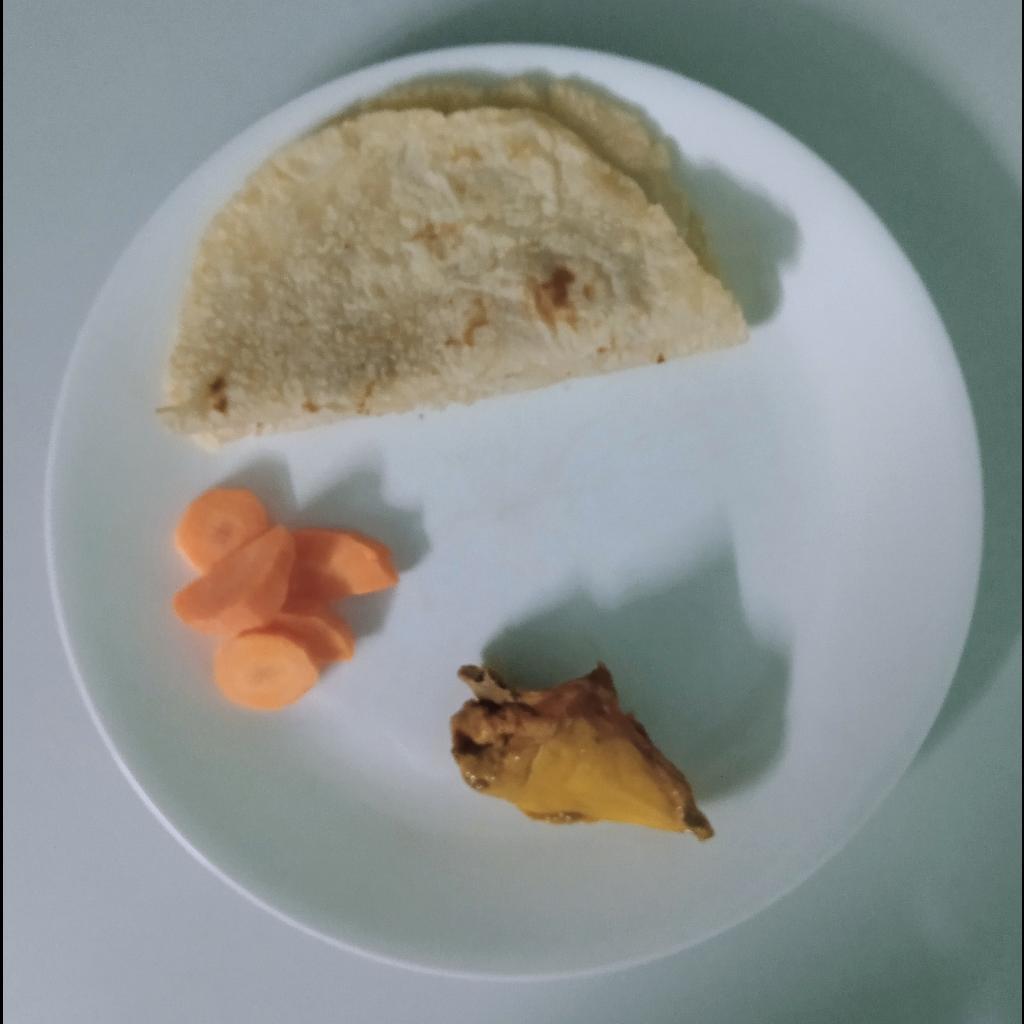carrot: (173, 488, 399, 711)
chicken: (450, 660, 717, 842)
ruti: (150, 82, 747, 452)
